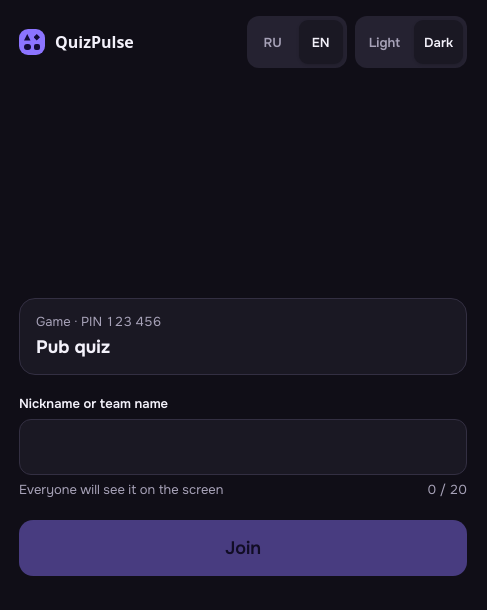
play join › other join refusals show their text under the form
The image size is (487, 610).
In the field labelled "Nickname or team name": (243, 448) [19,420,467,476], type "Cat"
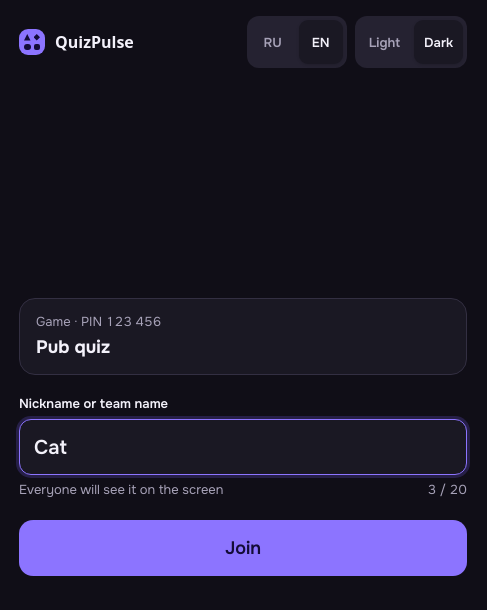
Click the button "Join": (243, 548) [19,520,467,576]
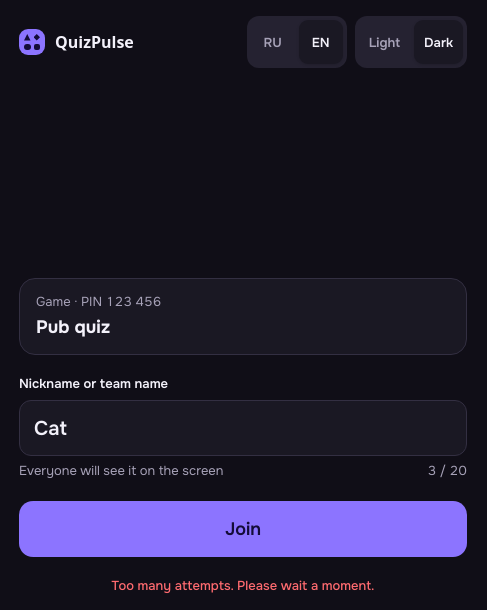
expect the button "Join" is enabled: met, box [19,501,467,557]
expect the text "Too many attempts. Please wait a moment." is shown: met, box [112,577,374,594]
